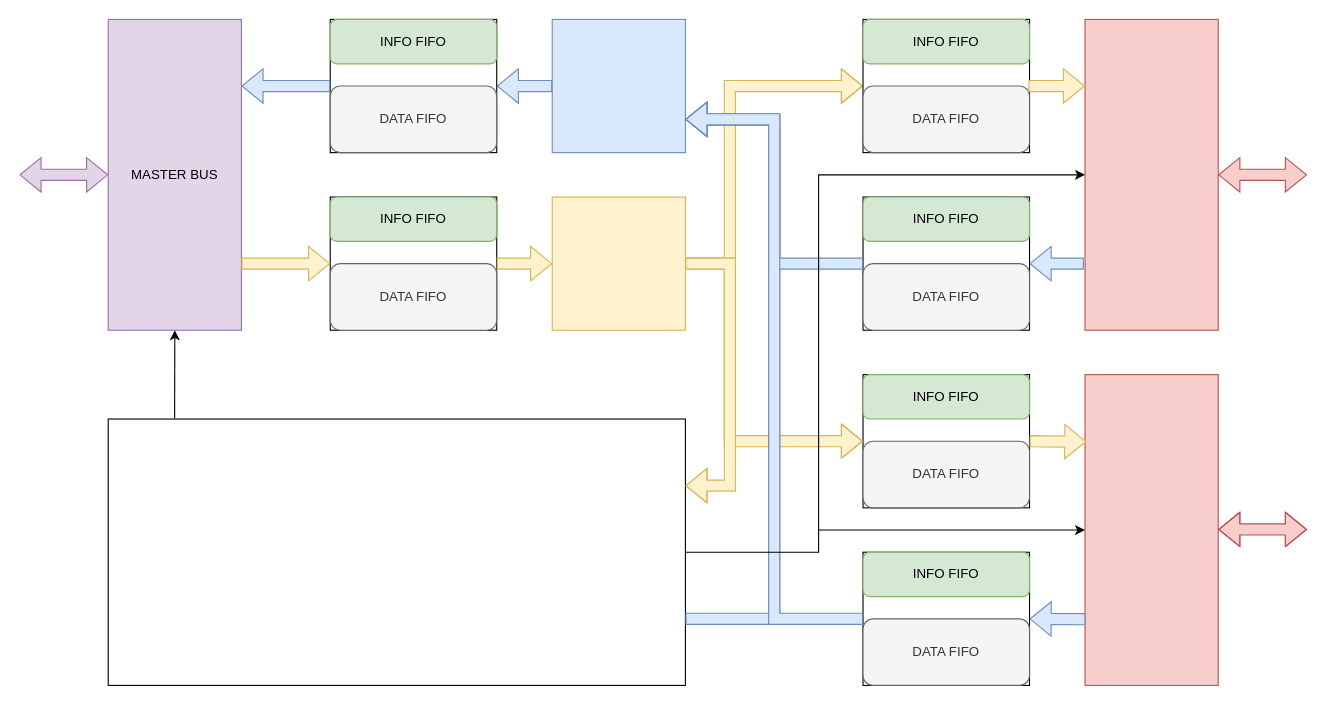
This 1325x705 diagram has some shape labels left out. The shapes that lost their labels are listed below. From the top down, each one's centre as x and y in pixels, then its label:
(618,85): SELECTOR
(1151,174): SLAVE BUS 0
(618,263): ROUTER
(1151,529): SLAVE BUS 1
(396,551): CONFIGURATION
